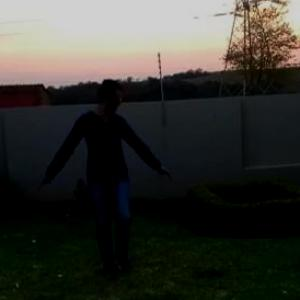land: (6, 68, 189, 299)
